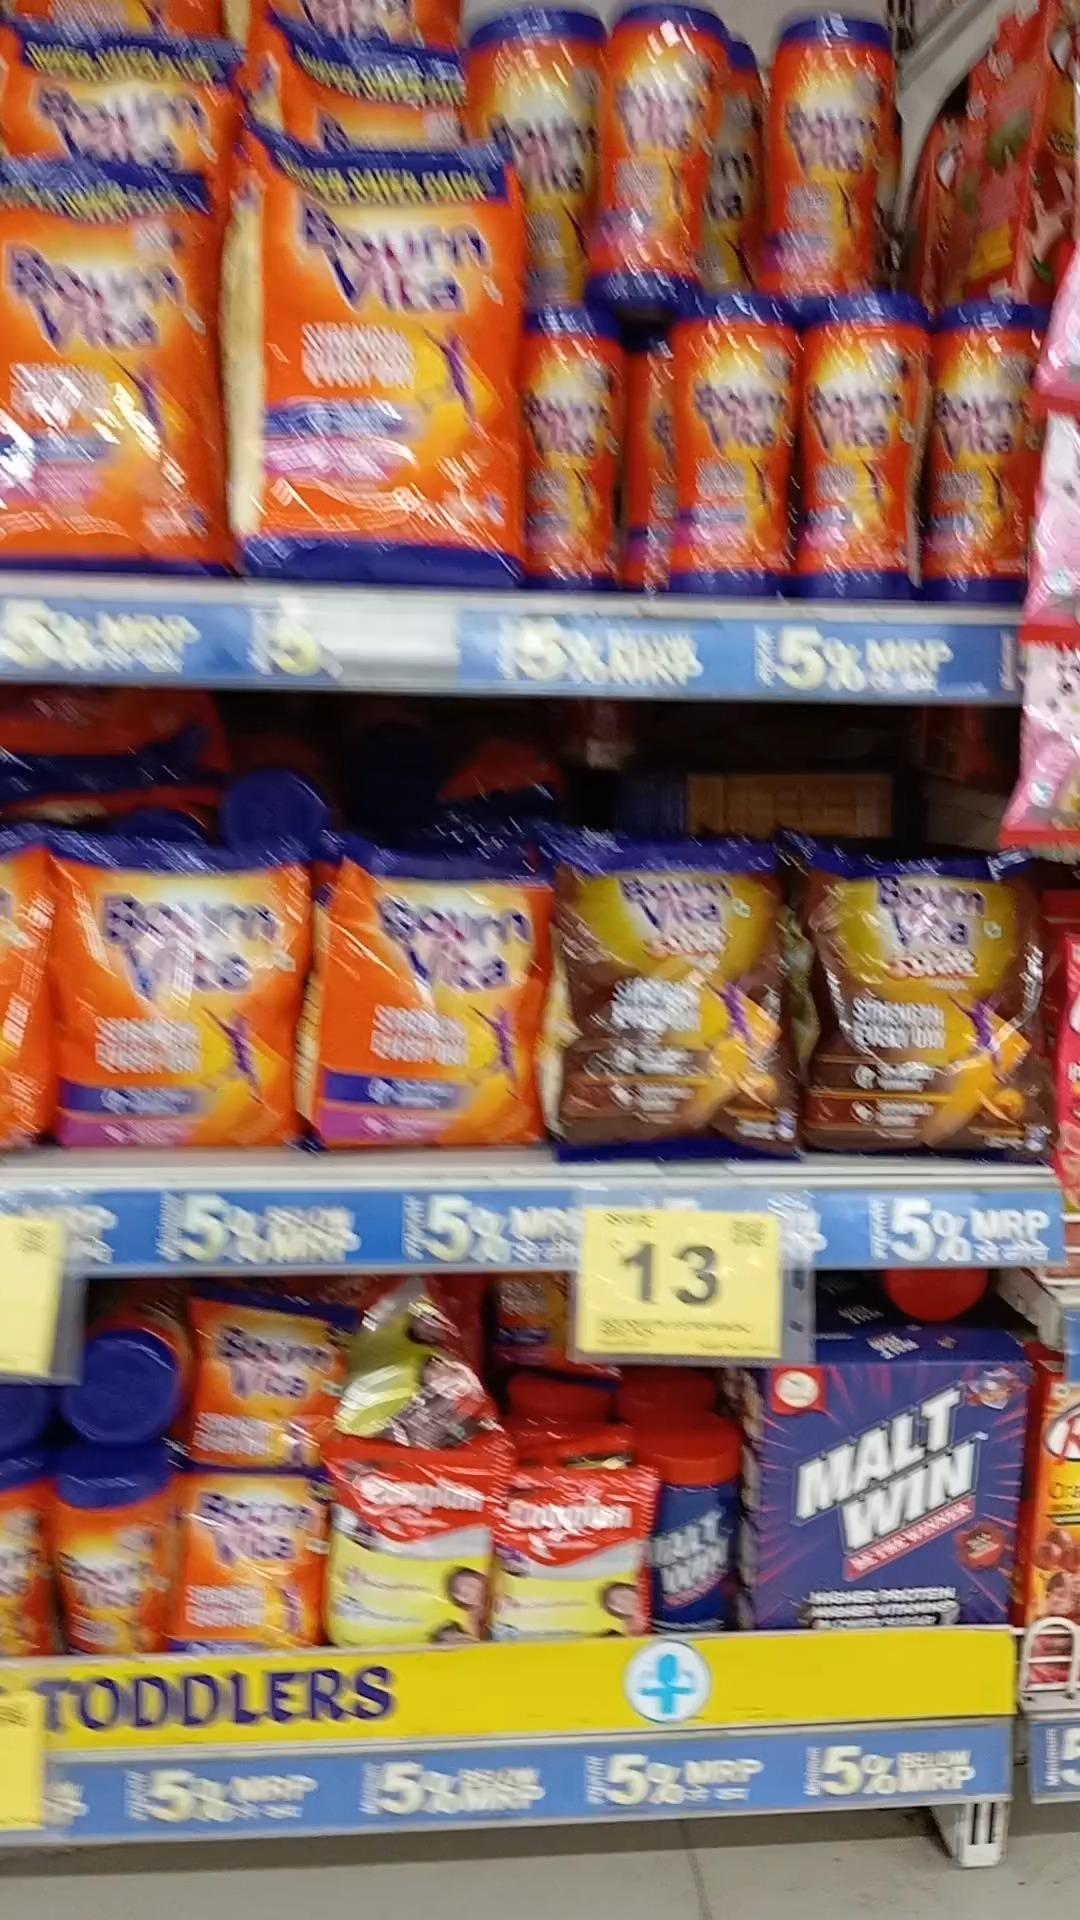BOURN_VITA_1_KG_POUCH: (240, 136, 530, 583), (0, 148, 219, 566)
BOURN_VITA_200_G_JAR: (53, 1472, 162, 1651)
BOURN_VITA_500_G_JAR: (676, 289, 791, 595), (802, 290, 913, 599), (600, 1, 711, 282), (769, 17, 876, 284), (935, 303, 1080, 442)
BOURN_VITA_500_G_POUCH: (54, 839, 285, 1149), (320, 845, 535, 1146)
BOURN_VITA_75_G_POUCH: (181, 1470, 315, 1648), (191, 1294, 323, 1462)
BOURN_VITA_FIVE_STAR_MAGIC_500_G_POUCH: (555, 839, 798, 1158), (808, 849, 1050, 1151)
